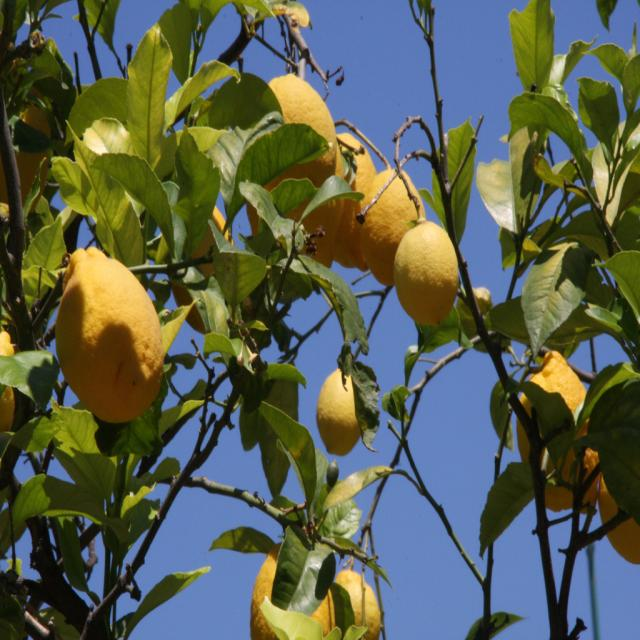Lemon: (53, 248, 165, 424), (246, 143, 346, 267), (516, 348, 589, 514), (268, 70, 338, 213), (171, 203, 236, 335), (252, 539, 335, 640), (362, 167, 426, 286), (394, 218, 459, 326), (1, 90, 52, 217), (337, 129, 376, 266), (316, 367, 363, 456), (599, 472, 640, 568), (330, 568, 382, 640), (0, 331, 17, 433)
